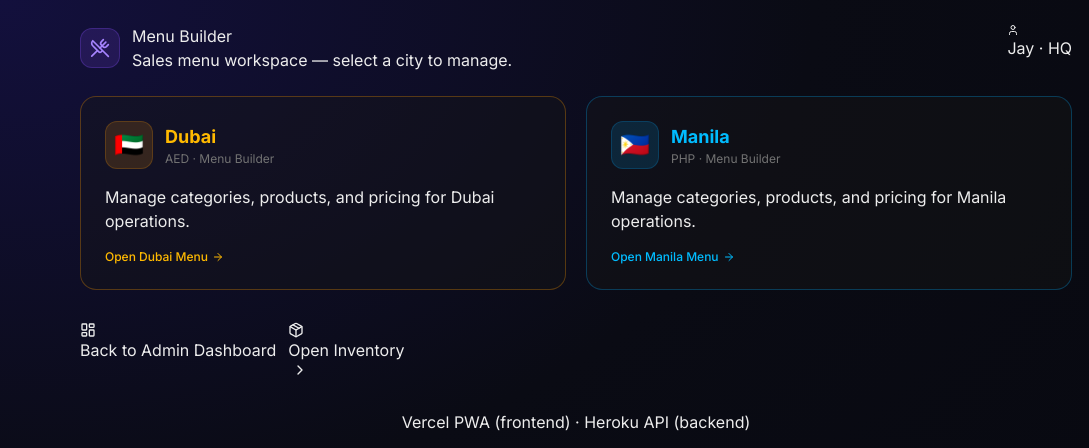
Test: AdminMenuPage — CityMenuBuilder view › clicking Manila button shows Manila Menu Builder
Check: the heading "Menu Builder" is shown, box x1=132 y1=26 x2=232 y2=46
Click the button that starts with "Manila" at {"x": 829, "y": 193}, box x1=586 y1=96 x2=1072 y2=290
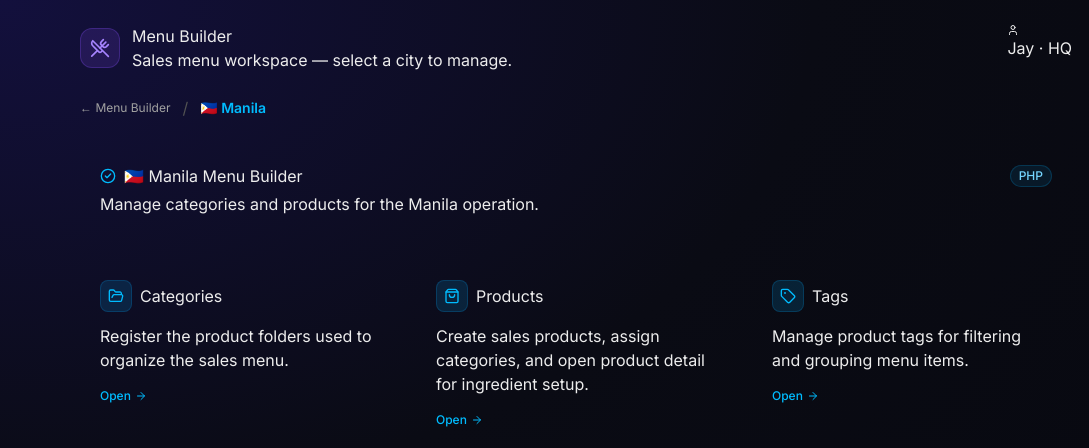
Check: the heading "🇵🇭 Manila Menu Builder" is shown, box x1=124 y1=164 x2=303 y2=188
